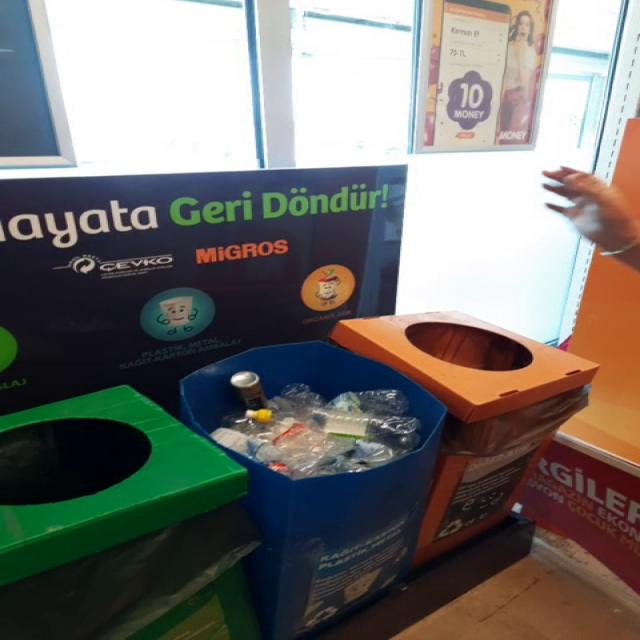metal: (229, 372, 267, 411), (229, 372, 260, 389)
